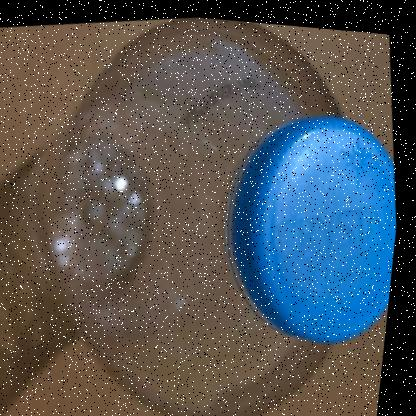bottle cap: (12, 4, 416, 416)
